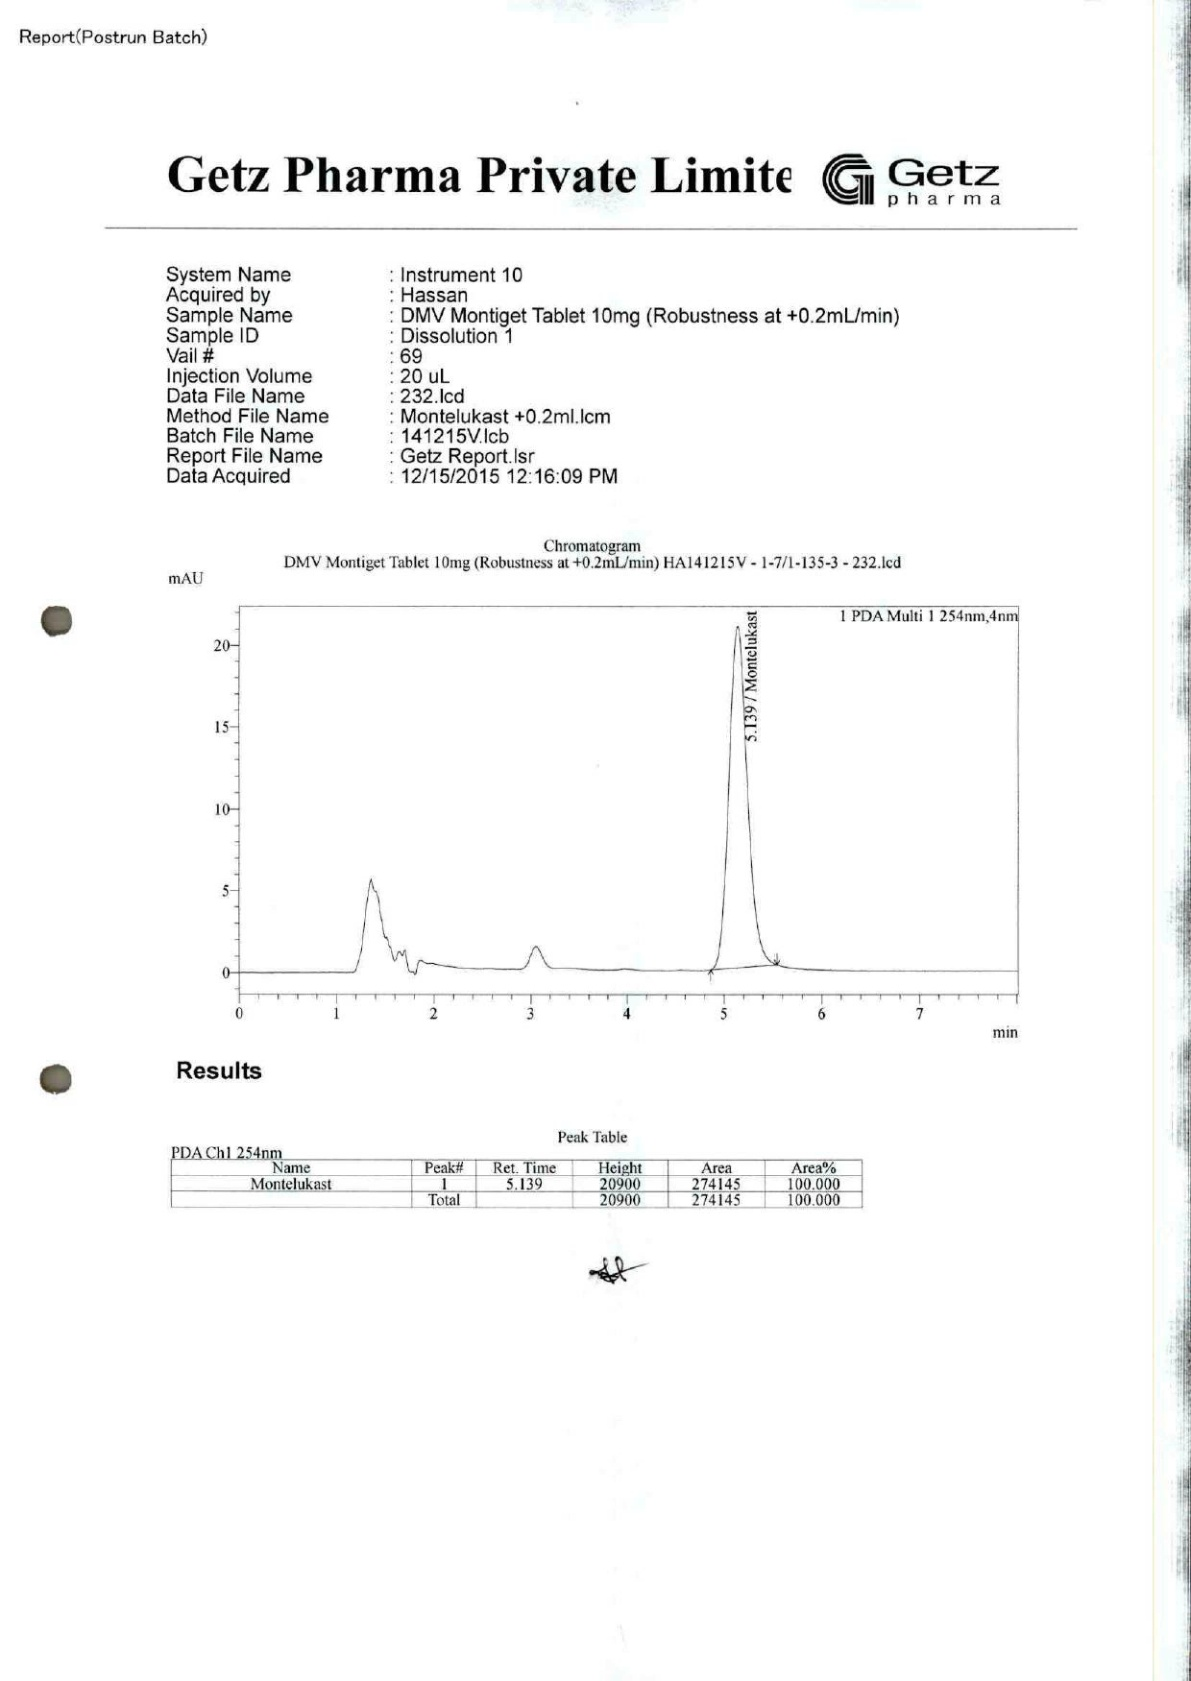full_lined: (169, 1158, 864, 1210)
nolines: (161, 262, 902, 489)
